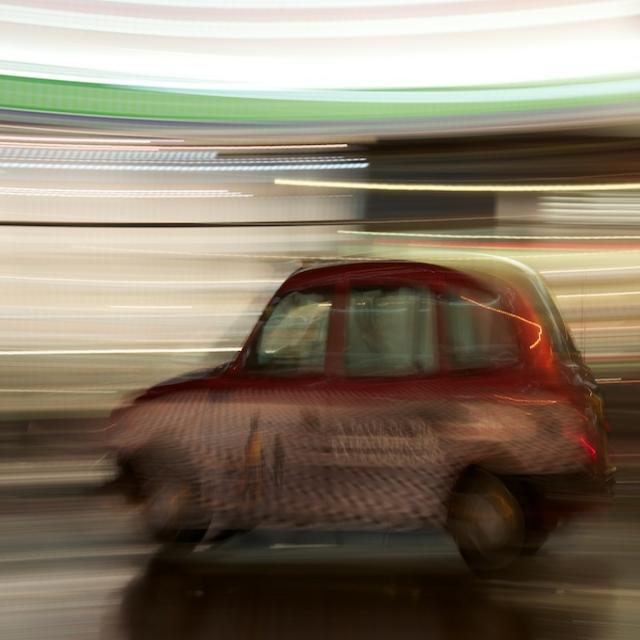car: (94, 236, 590, 620)
